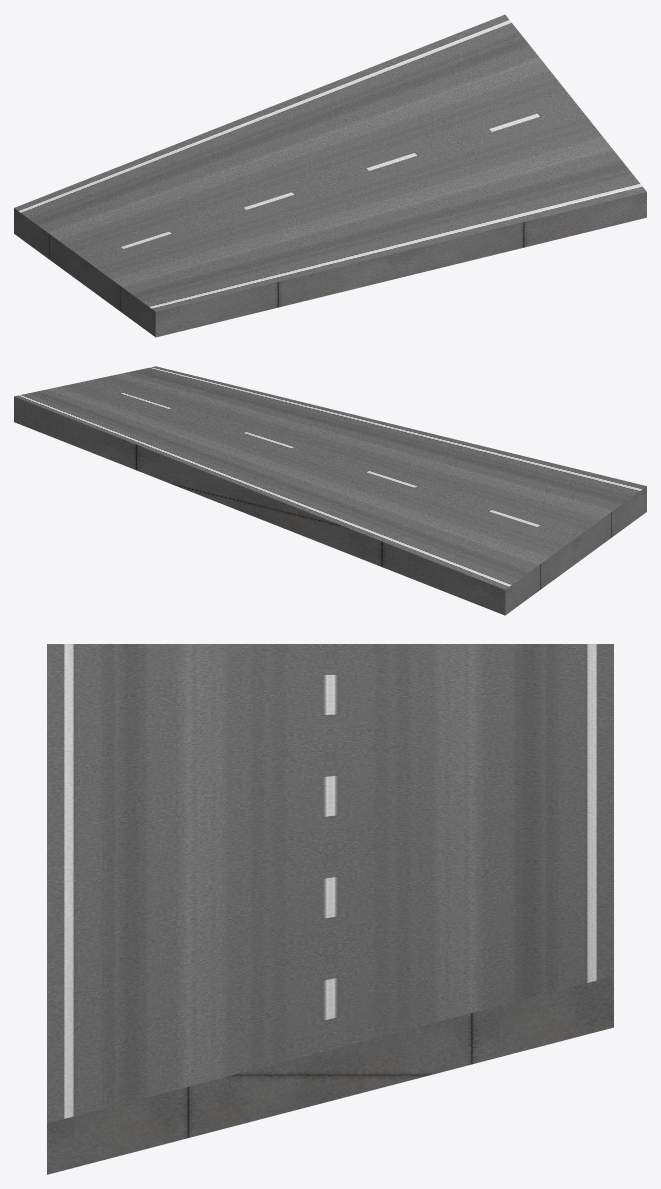
Rendered from toTtwisted.fbx.
3 views of the same model, one above another, from view 1: azimuth 30°, elevation 25°; view 2: azimuth 150°, elevation 25°; view 3: azimuth 270°, elevation 25° (orthographic). The views are drawn at different scales.
Visible parts, largest first — view 1: 2,1,1; view 2: 2,1,1; view 3: 2,1,1.
Boxes of the visible parts, x1,y1,x2,y2 form: 2,1,1: [14, 14, 646, 337]; 2,1,1: [14, 366, 646, 615]; 2,1,1: [47, 644, 613, 1174].
Bounding box in the file's own units: 787 × 152 × 394.
Materials: 2 (2 with a texture image).
